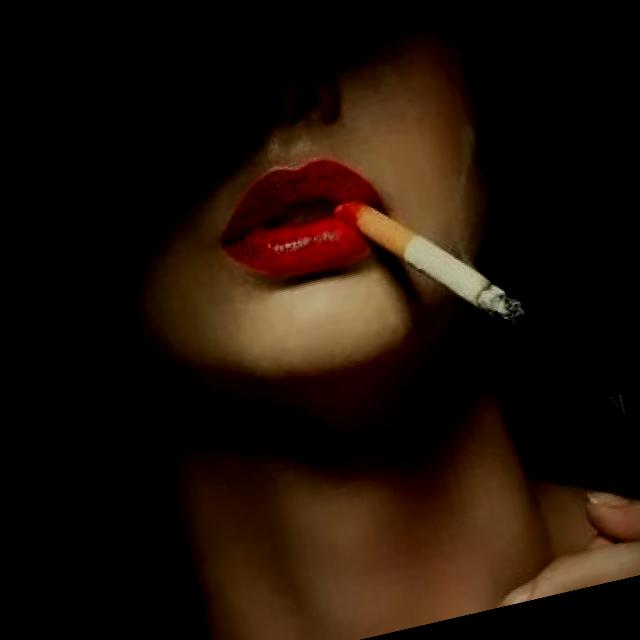cigarette: (330, 164, 532, 368)
